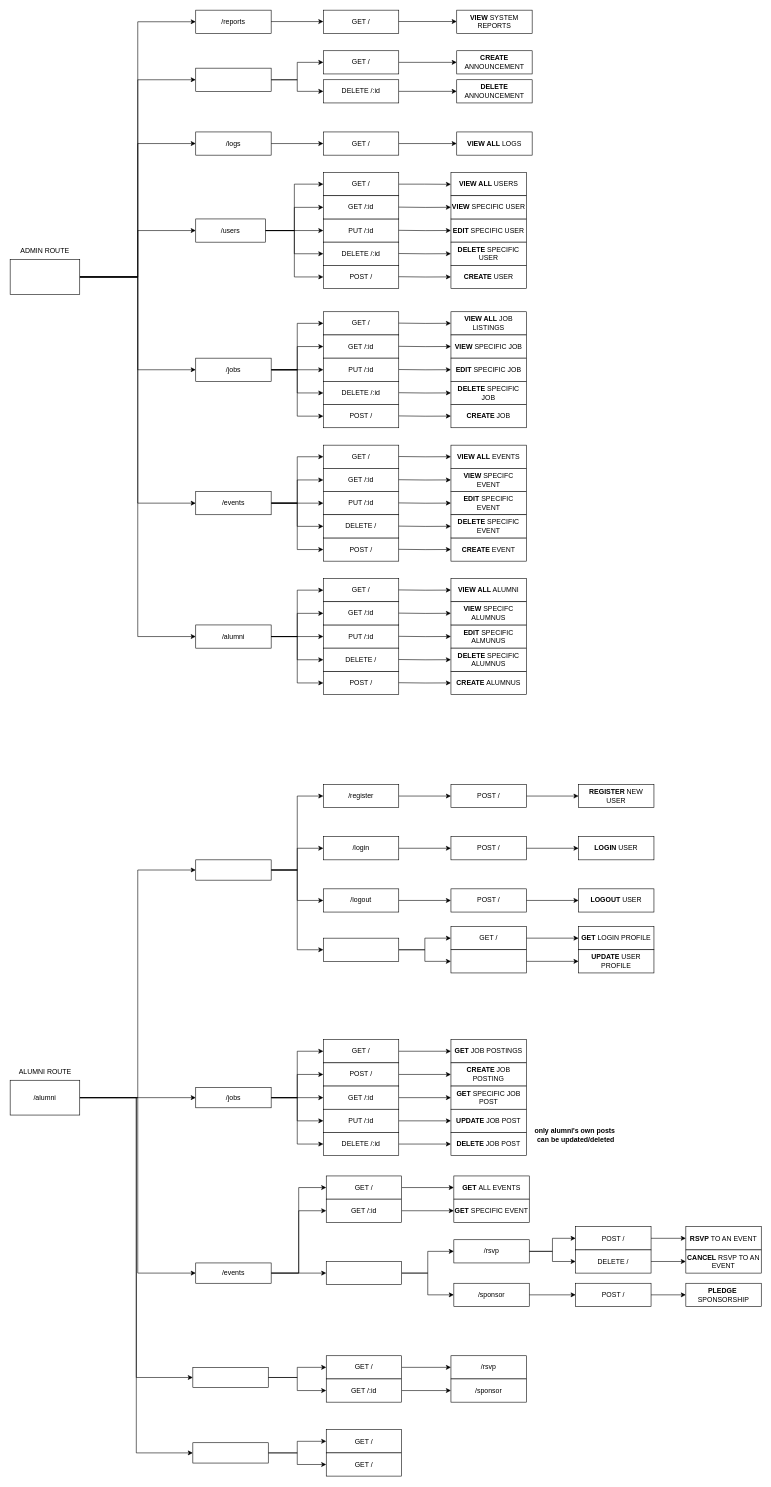
Some shapes in this 771 by 1487 pixel diagram are drawn without their labels. The box of each missing label's shape, as (x1, y1, x2, y2) in pixels:
/:id: (326, 1261, 402, 1285)
/admin: (10, 259, 80, 294)
/announcements: (195, 68, 271, 91)
/auth: (195, 859, 271, 880)
/profile: (323, 938, 399, 961)
/search: (192, 1367, 268, 1388)
additional shit...: (192, 1442, 268, 1463)
PUT /: (450, 949, 526, 973)
